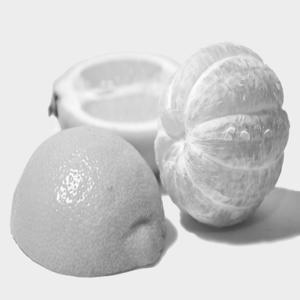fruit: (159, 32, 291, 239), (6, 129, 175, 286), (46, 45, 207, 186)
